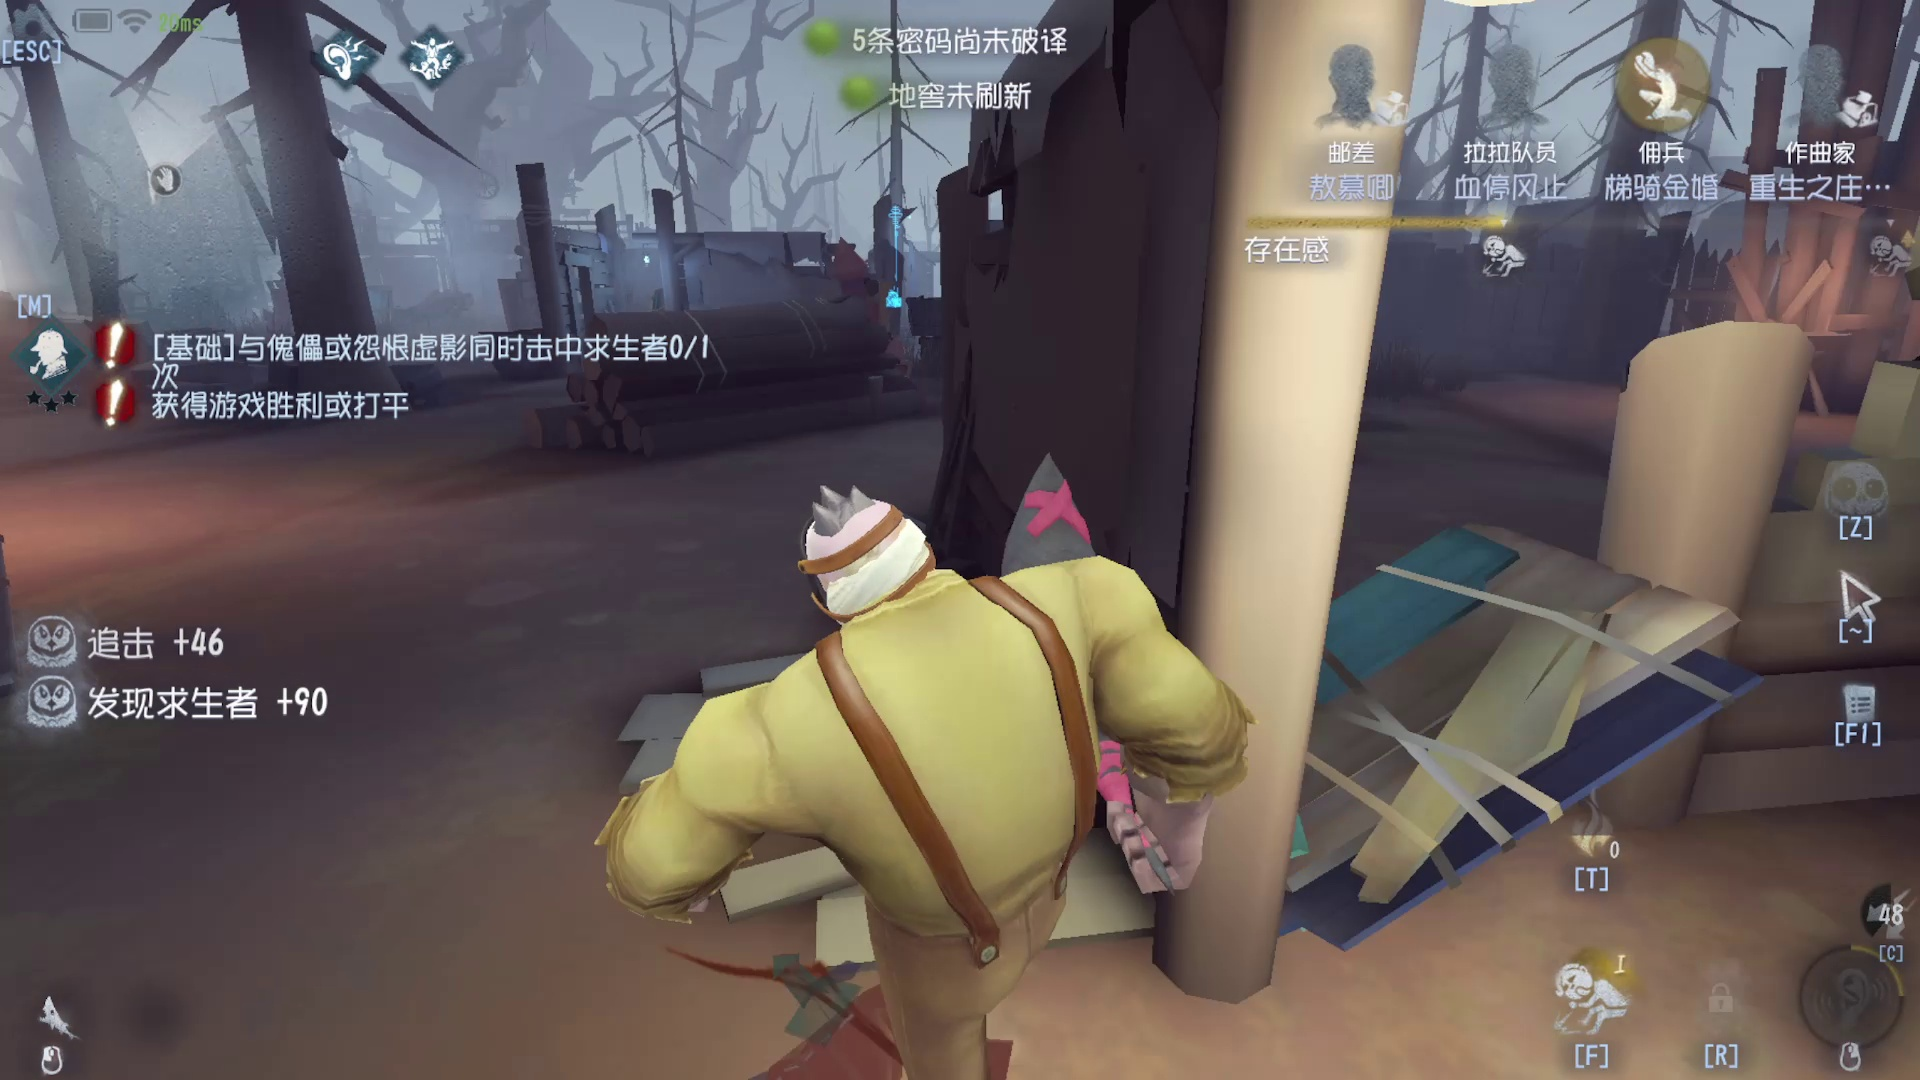密码机: (855, 189, 935, 328)
木板: (1251, 483, 1709, 948)
